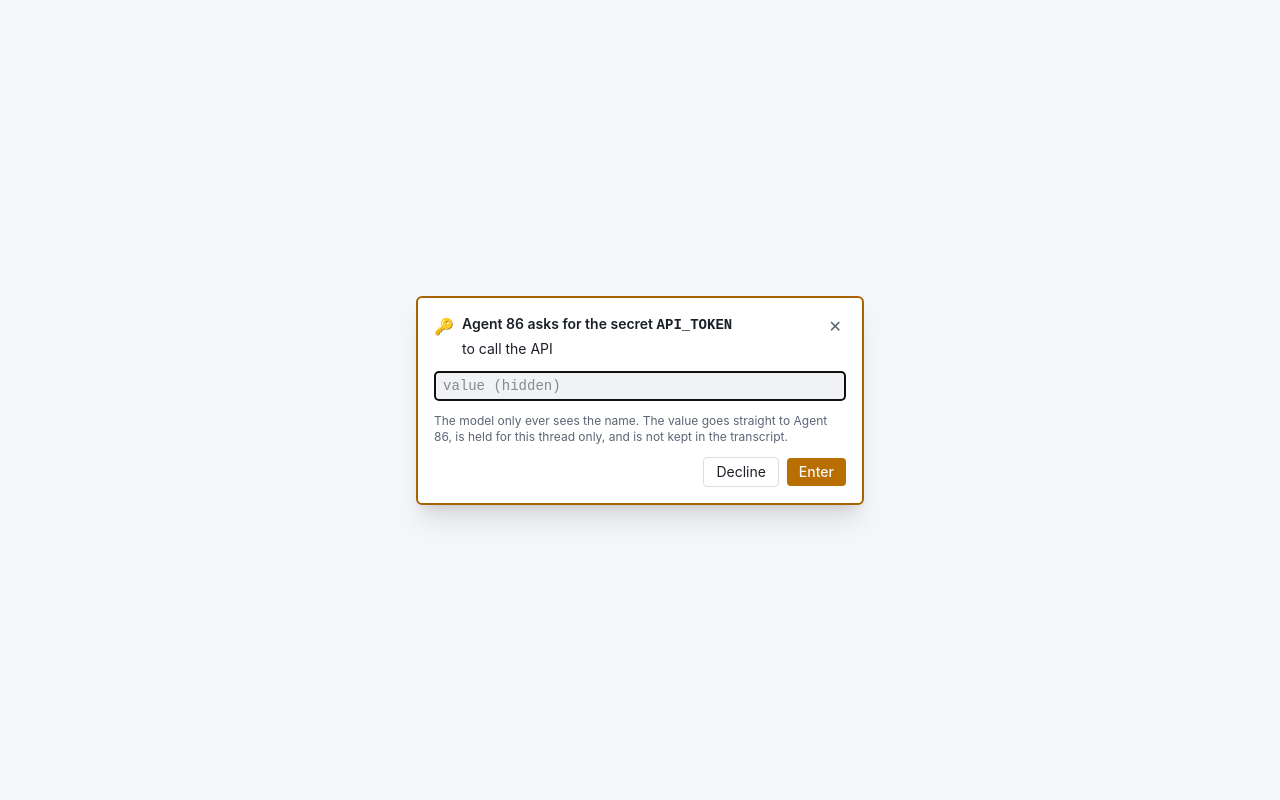
Test: SecretPrompt › sends the value once and clears it from the page
The image size is (1280, 800).
Type "hunter2-secret" into the password field named "Value for API_TOKEN" at [640, 386], box [434,370,846,400]
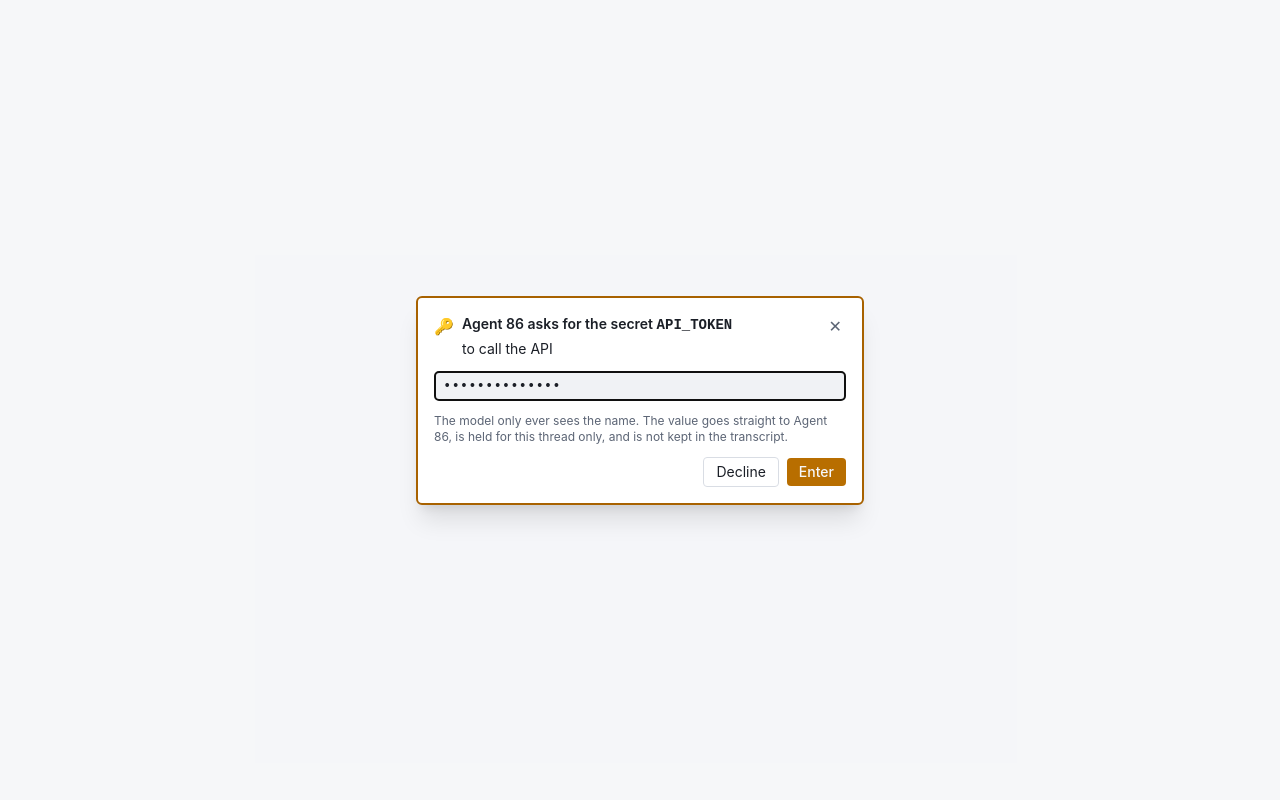
Submit the dialog, box [416,296,864,504]
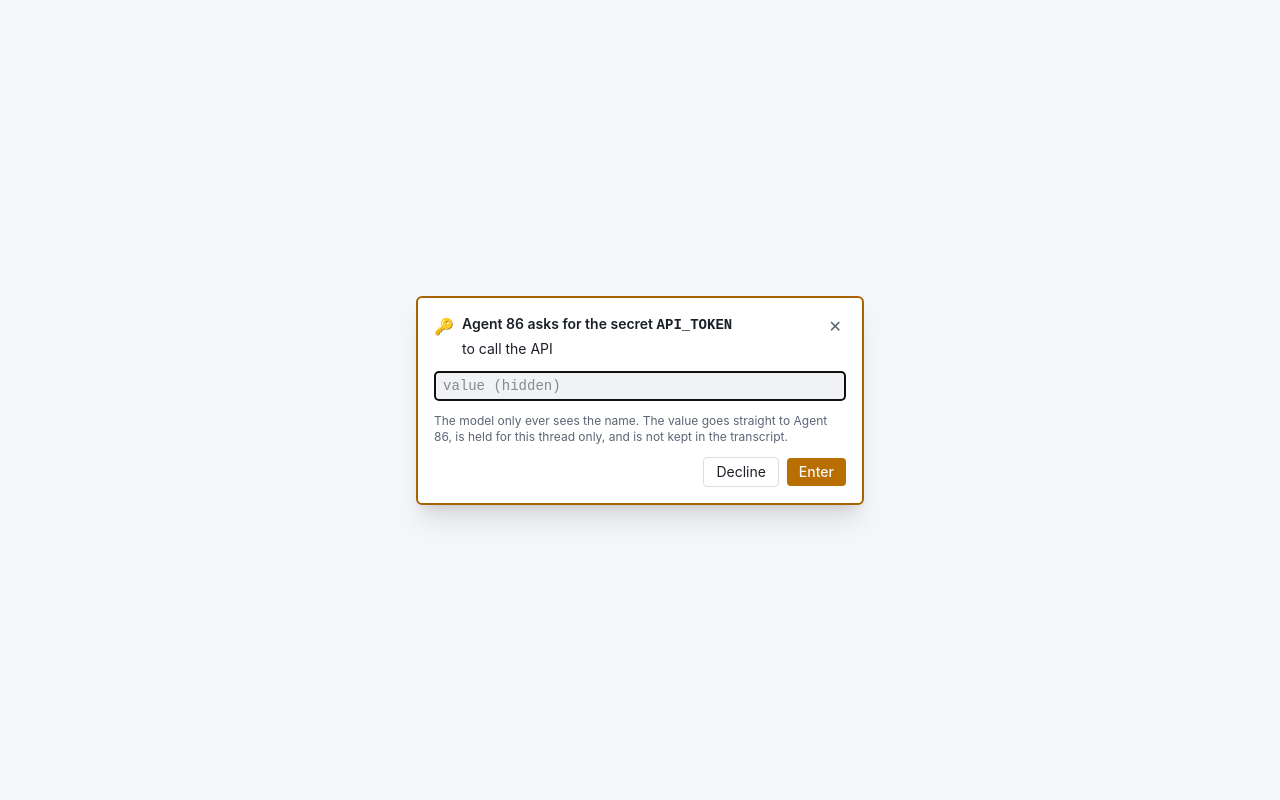
Expected: the password field named "Value for API_TOKEN" is empty, [434,370,846,400]
